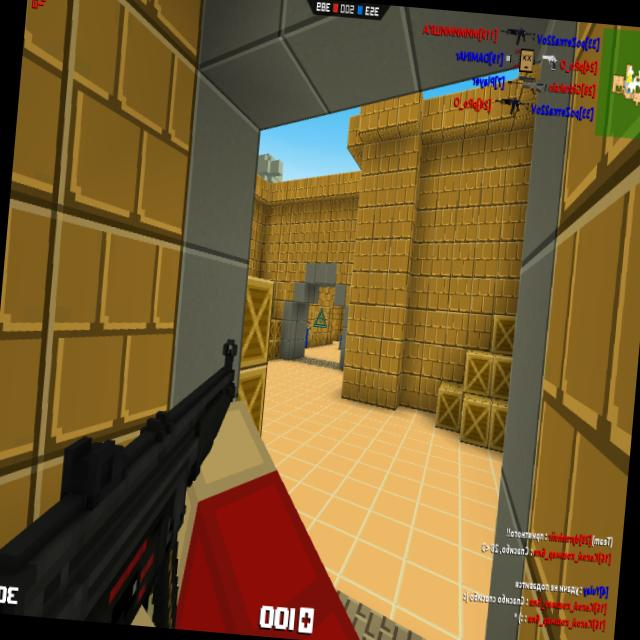enemy: (304, 321, 310, 348)
